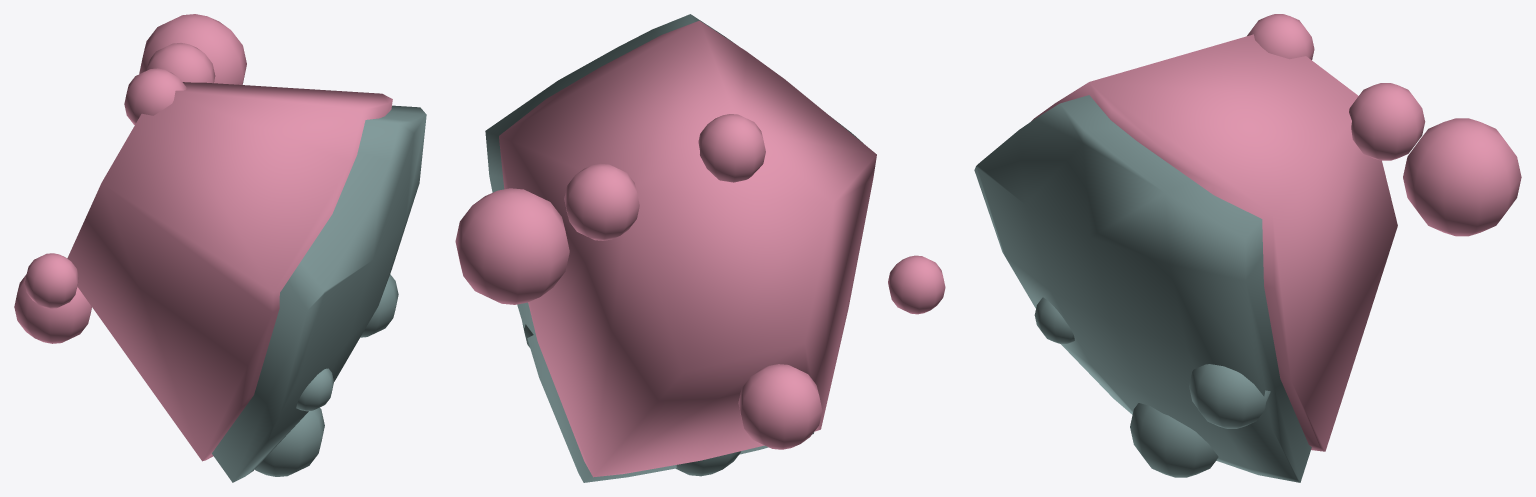
The model's file is chunk26.glb.
3 views of the same model, side by side, from view 1: azimuth 30°, elevation 25°; view 2: azimuth 150°, elevation 25°; view 3: azimuth 270°, elevation 25° (orthographic). The views are drawn at different scales.
Parts seen in each view (by area): view 1: flesh, skin; view 2: flesh, skin; view 3: skin, flesh.
Boxes of the visible parts, x1,y1,x2,y2 form: flesh: (14,14,392,461); skin: (212,105,426,482); flesh: (455,20,945,477); skin: (485,14,862,482); skin: (974,95,1311,482); flesh: (1031,14,1521,451).
Bounding box in the file's own units: 0.8826 × 0.7941 × 0.9466.
